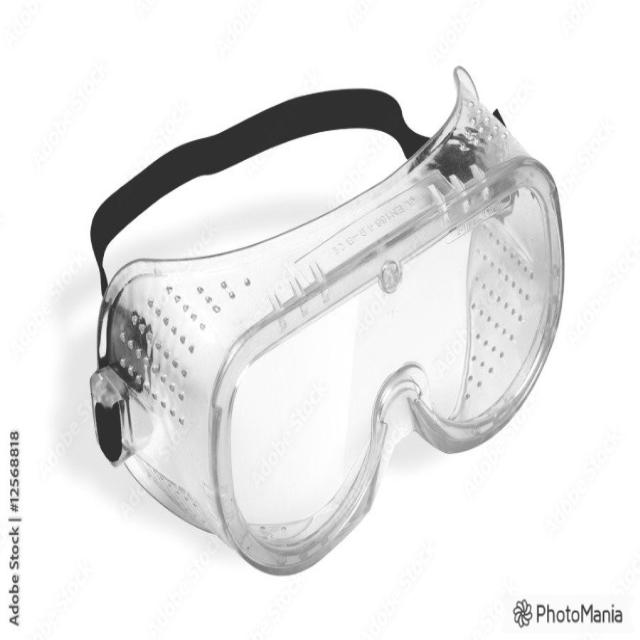Goggles: (86, 59, 571, 583)
